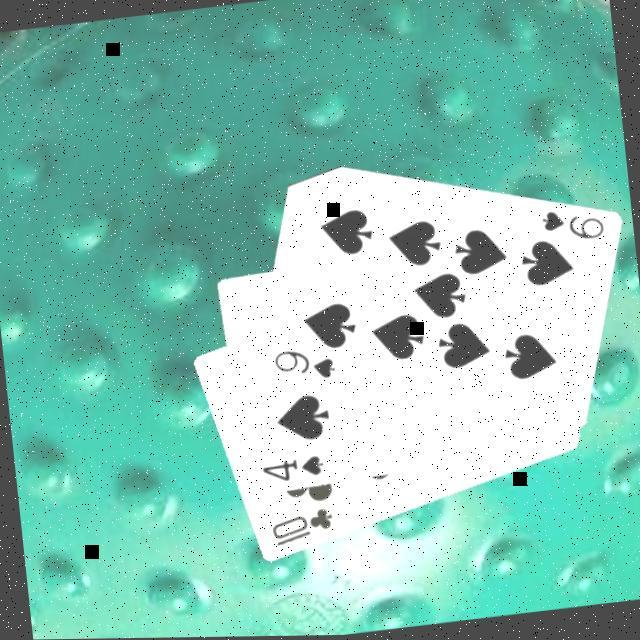10C: (267, 503, 339, 551)
4S: (257, 450, 328, 488)
9S: (536, 201, 608, 249), (268, 341, 340, 388)
